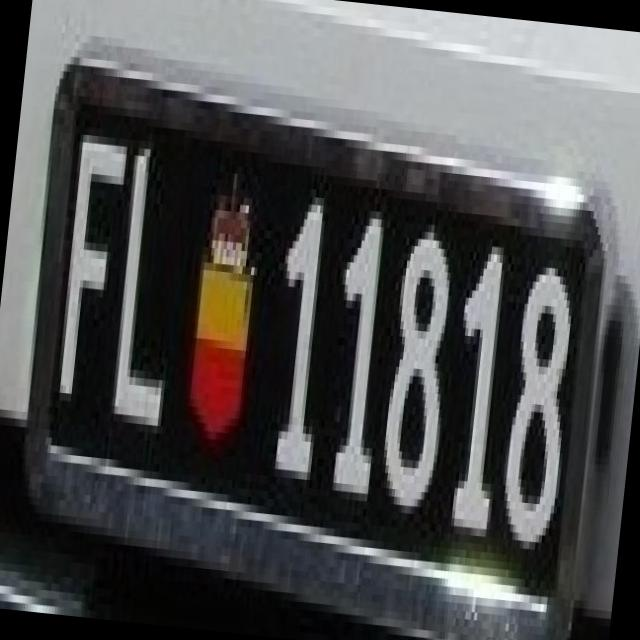1: (284, 173, 406, 494), (238, 162, 348, 480), (419, 211, 524, 522)
8: (358, 197, 466, 508), (482, 234, 590, 536)
F: (41, 110, 136, 397)
L: (95, 124, 196, 426)
